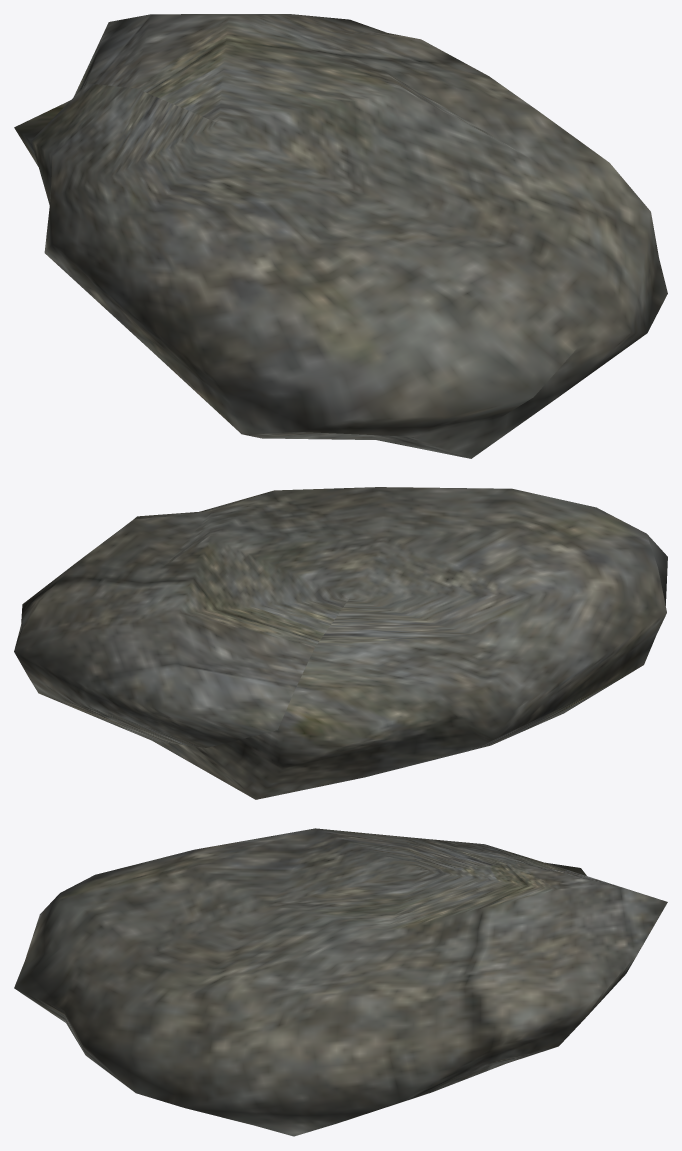
The model's file is dark_rock_001.fbx.
3 renders of one model, top to bottom at view 1: azimuth 30°, elevation 25°; view 2: azimuth 150°, elevation 25°; view 3: azimuth 270°, elevation 25°, orthographic. The views are drawn at different scales.
Parts seen in each view (by area): view 1: dark_rock.001; view 2: dark_rock.001; view 3: dark_rock.001.
Part boxes in pixels (x1,y1,x2,y2): dark_rock.001: (14,14,667,458); dark_rock.001: (14,487,667,799); dark_rock.001: (14,828,667,1136).
Bounding box in the file's own units: 143 × 64.23 × 193.
